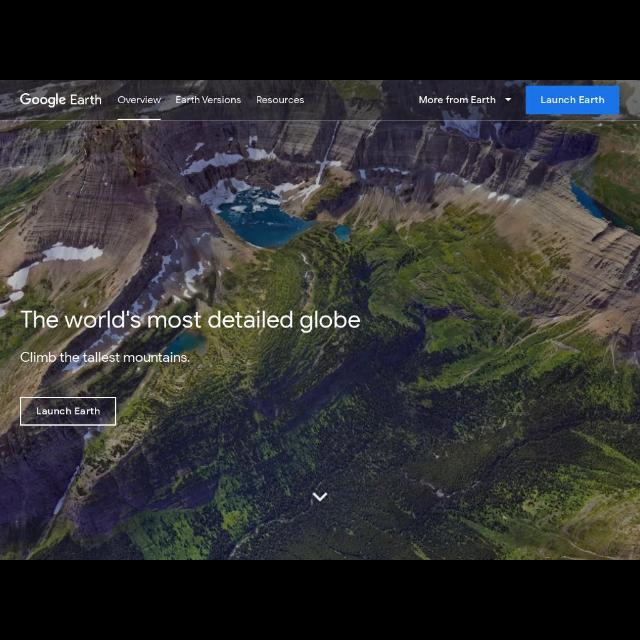backgroundimage: (1, 81, 639, 559)
icon: (310, 489, 328, 505), (502, 96, 514, 108)
multitab: (110, 82, 310, 120)
spinner: (410, 89, 518, 111)
text: (20, 309, 362, 335), (19, 351, 192, 367), (18, 90, 104, 108), (175, 94, 243, 106), (36, 405, 100, 417), (538, 95, 606, 105), (417, 96, 497, 104), (118, 95, 160, 105), (256, 97, 304, 105)
textbutton: (20, 396, 116, 426)
